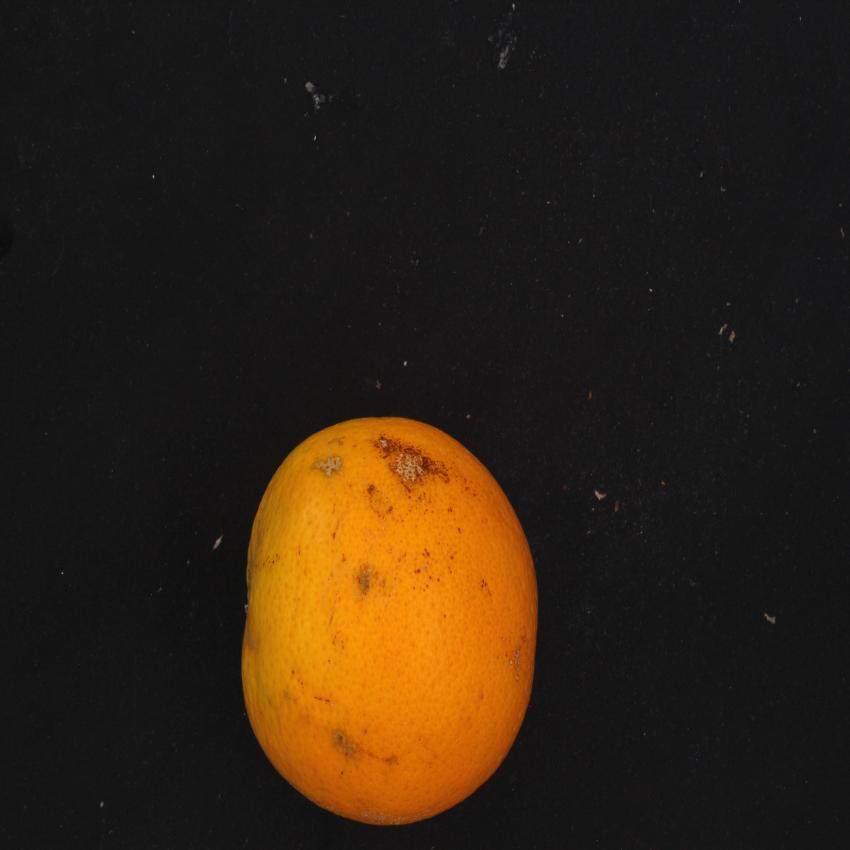Mal estado: (224, 395, 558, 839)
